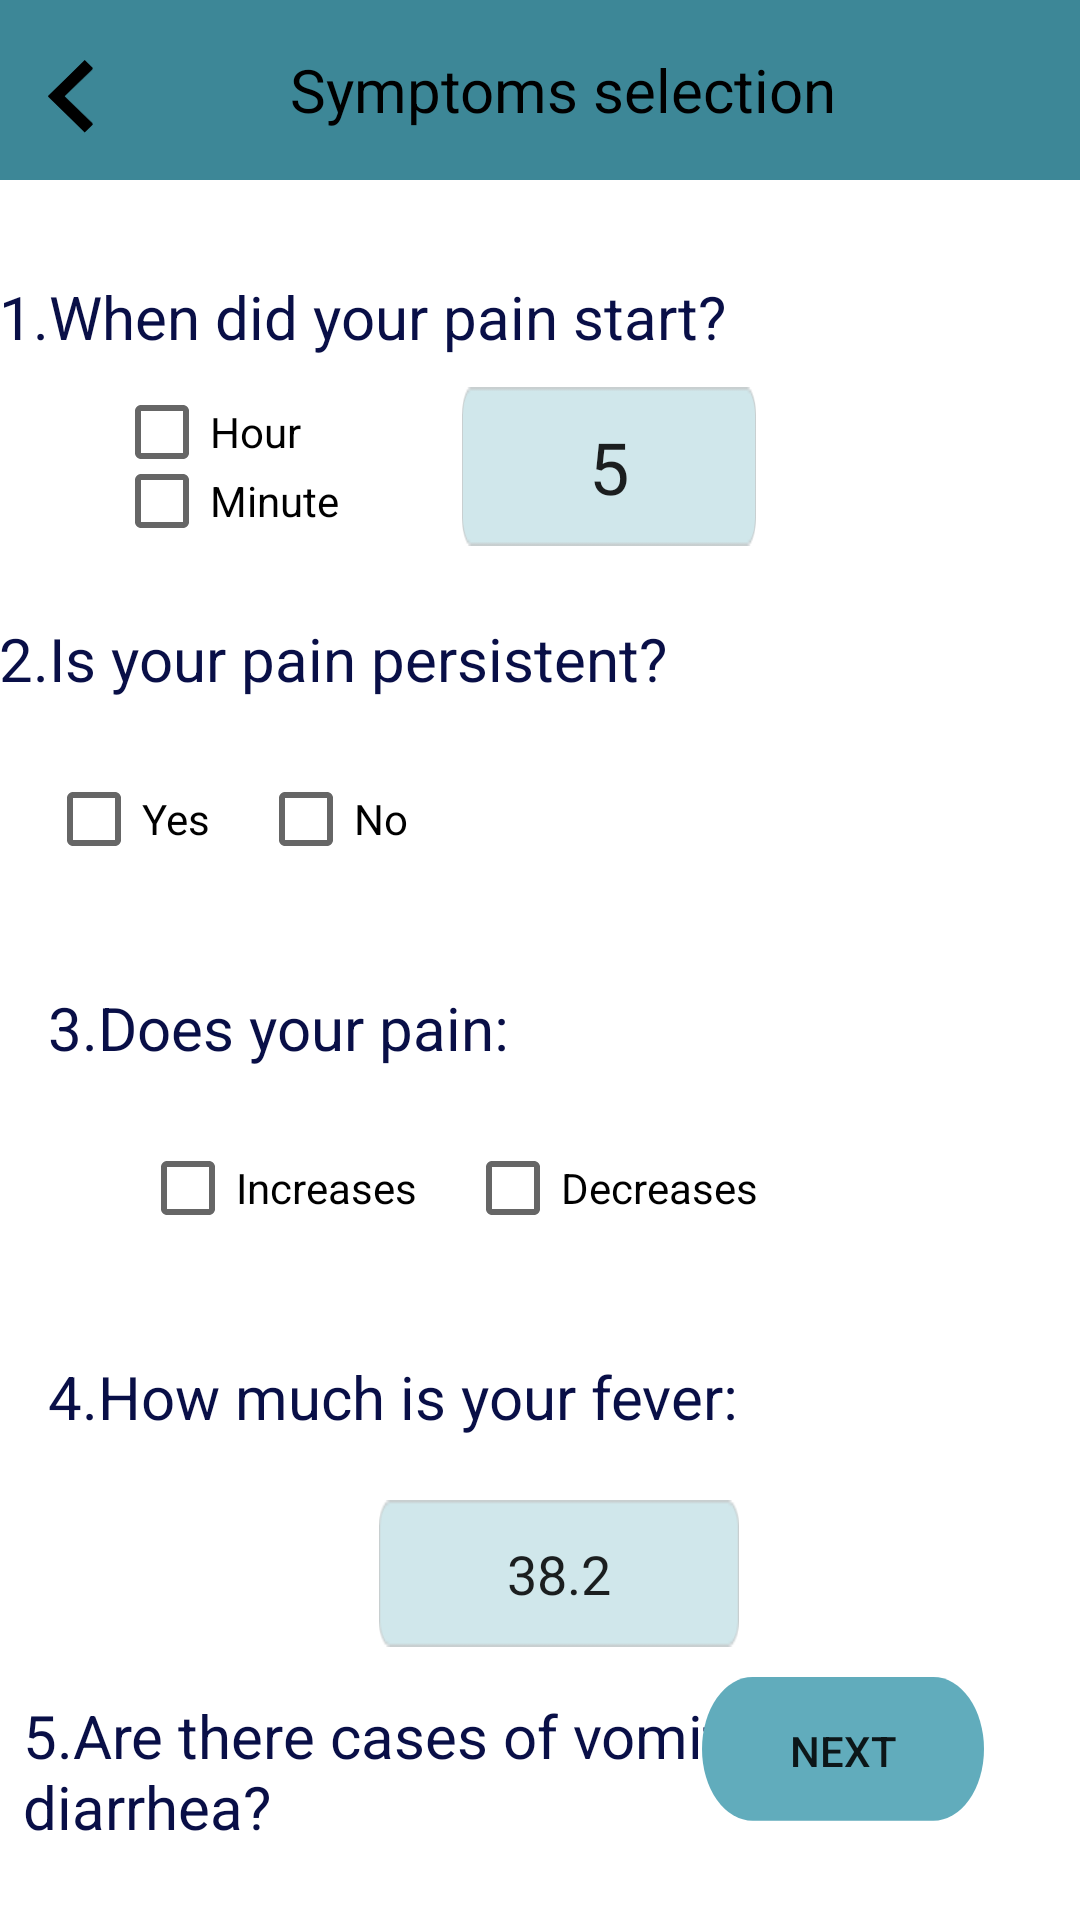

Icon bounding boxes for this 1080px x 1920px phone screenshot, format {"left": x1, "top": y1, "right": x2, "bottom": y2}:
back: {"left": 48, "top": 60, "right": 93, "bottom": 133}
